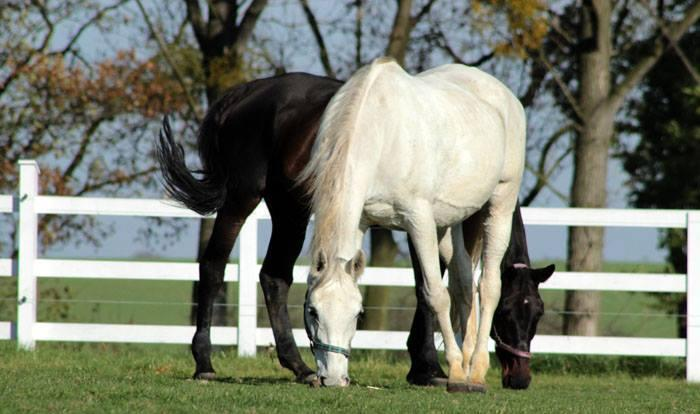horse: (295, 55, 532, 392)
